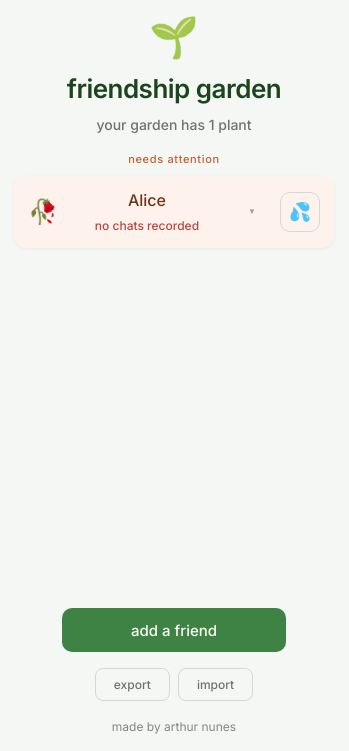
App › history › shows interaction history when expanded
This screenshot has width=349, height=751.
Click the button named "details for alice" at (252, 212), box x1=236 y1=192 x2=268 y2=232
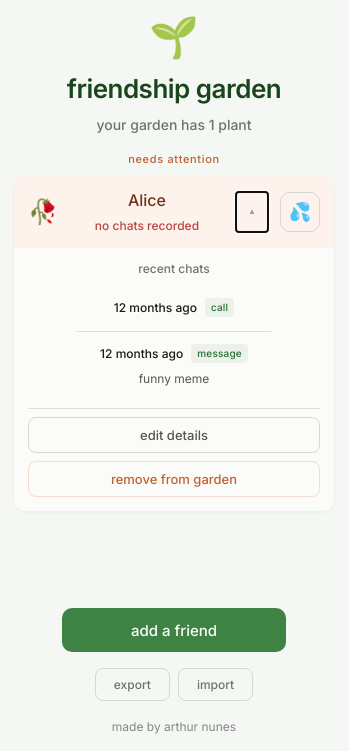
Now the heading "recent chats" is shown, box x1=138 y1=260 x2=210 y2=276
Now the text "Funny meme" is shown, box x1=139 y1=370 x2=209 y2=386
